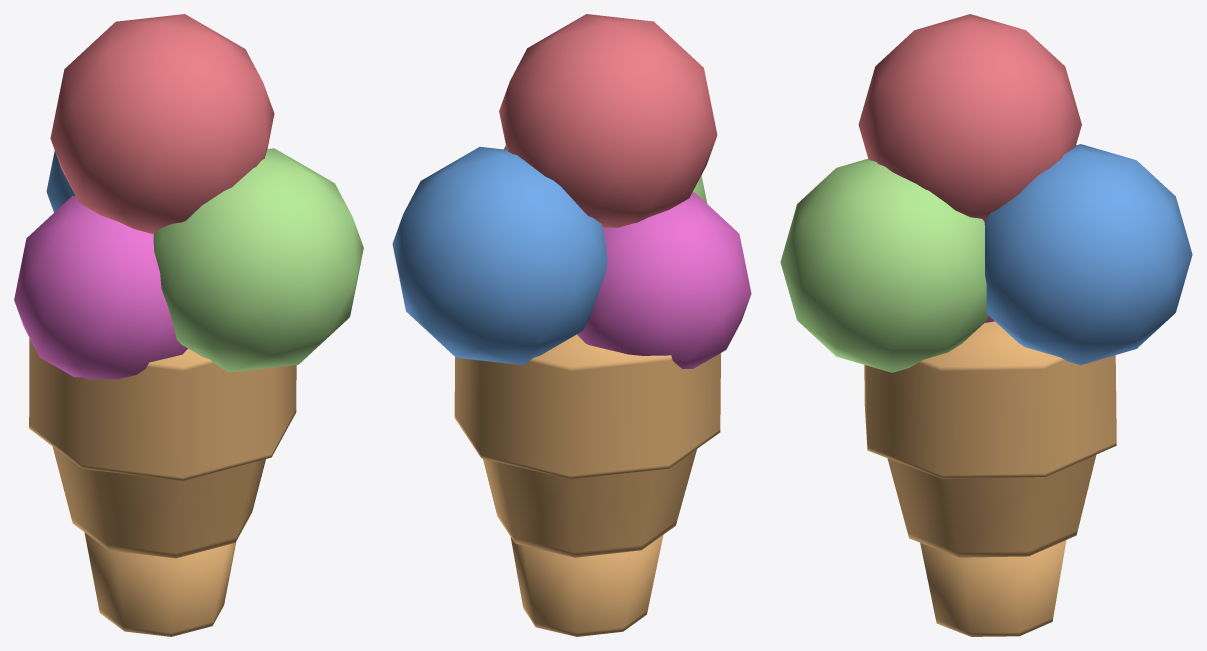
File: lodzik.fbx
The picture shows the model from 3 angles, left to right: view 1: azimuth 30°, elevation 25°; view 2: azimuth 150°, elevation 25°; view 3: azimuth 270°, elevation 25°; orthographic projection. The views are drawn at different scales.
Parts seen in each view (by area): view 1: lodzik; view 2: lodzik; view 3: lodzik.
Boxes of the visible parts, box(x1,y1,x2,y2) form: lodzik: box(14, 14, 363, 636); lodzik: box(392, 14, 751, 636); lodzik: box(780, 14, 1192, 636).
Size of the model in its own units: 58.6 by 120 by 76.87.
